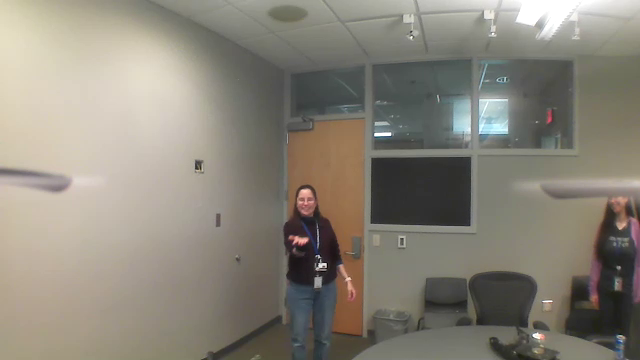land: (281, 231, 315, 251)
